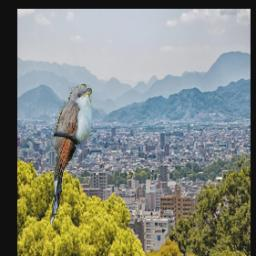Cuckoo: (50, 84, 92, 225)
